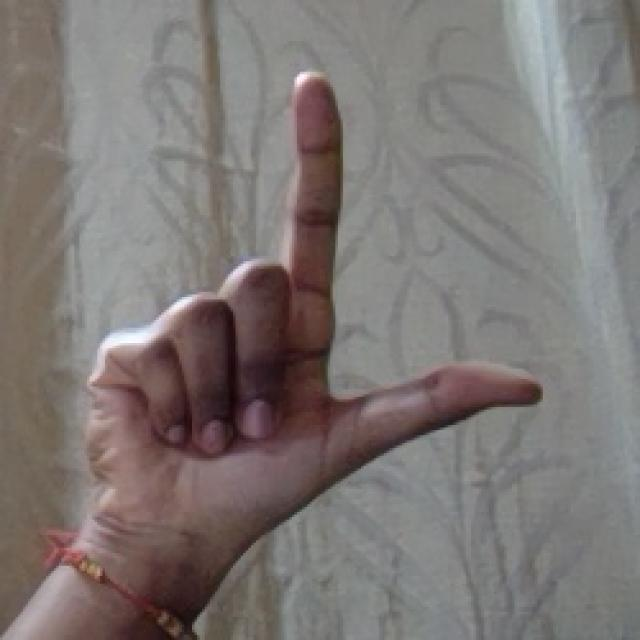Alphabet-L: (74, 74, 543, 626), (3, 566, 172, 639)
